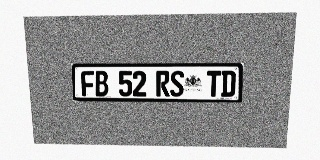2: (132, 71, 146, 96)
5: (118, 71, 132, 96)
B: (94, 71, 109, 96)
D: (221, 70, 236, 97)
F: (81, 71, 95, 96)
R: (156, 71, 170, 97)
S: (170, 71, 184, 97)
T: (206, 71, 221, 97)
